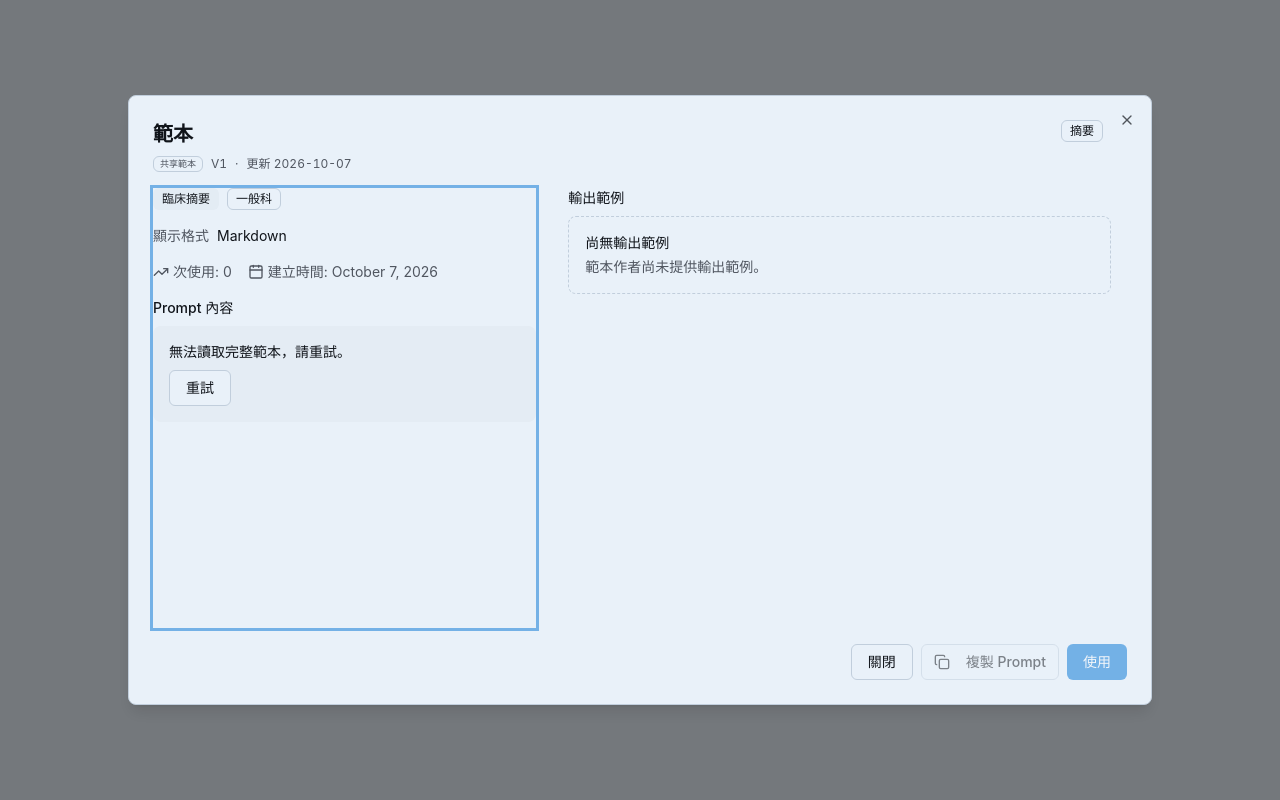
Test: offers retry for incomplete content while keeping use disabled
Click the button "重試": (200, 388) [169, 370, 231, 406]
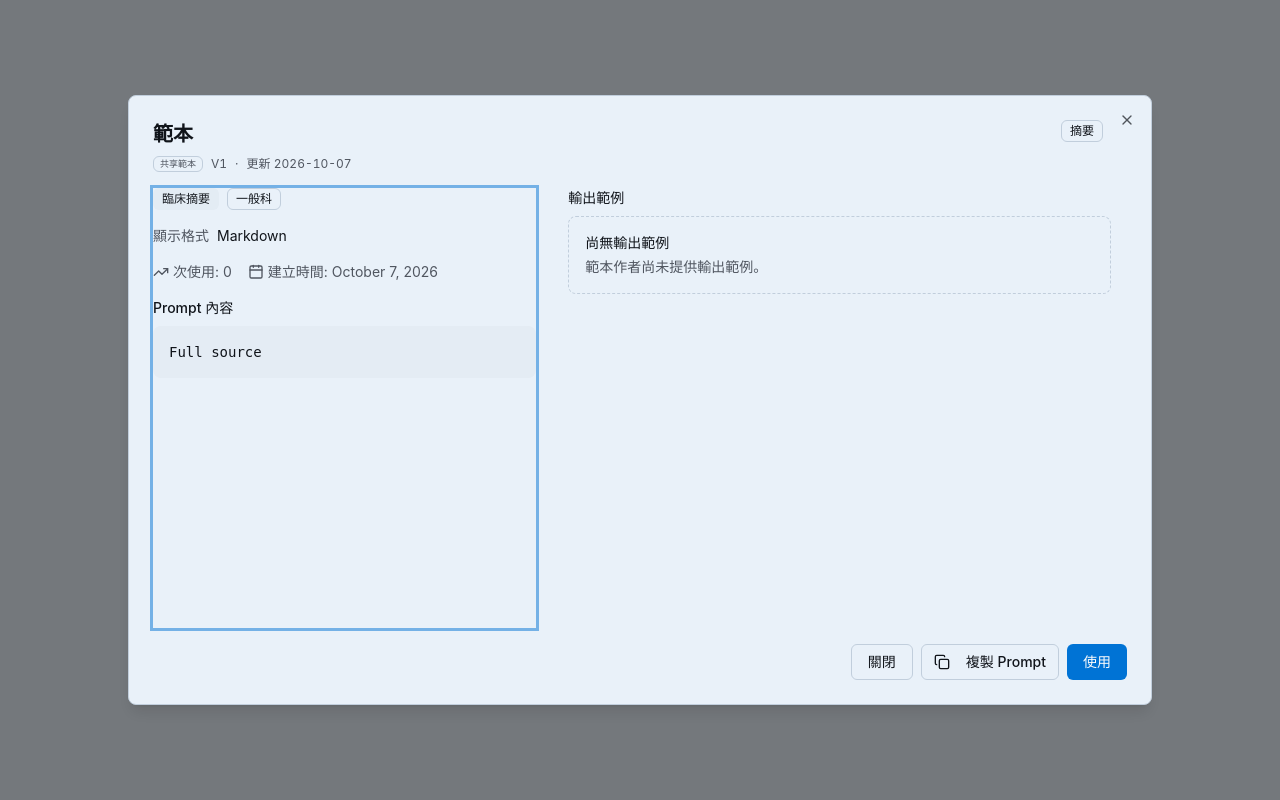
Check: the button "使用" is enabled, box [1067, 644, 1127, 680]
